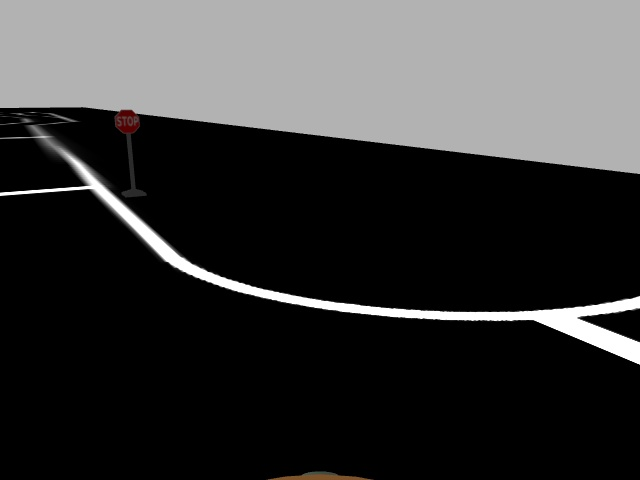stop: (112, 108, 142, 136)
